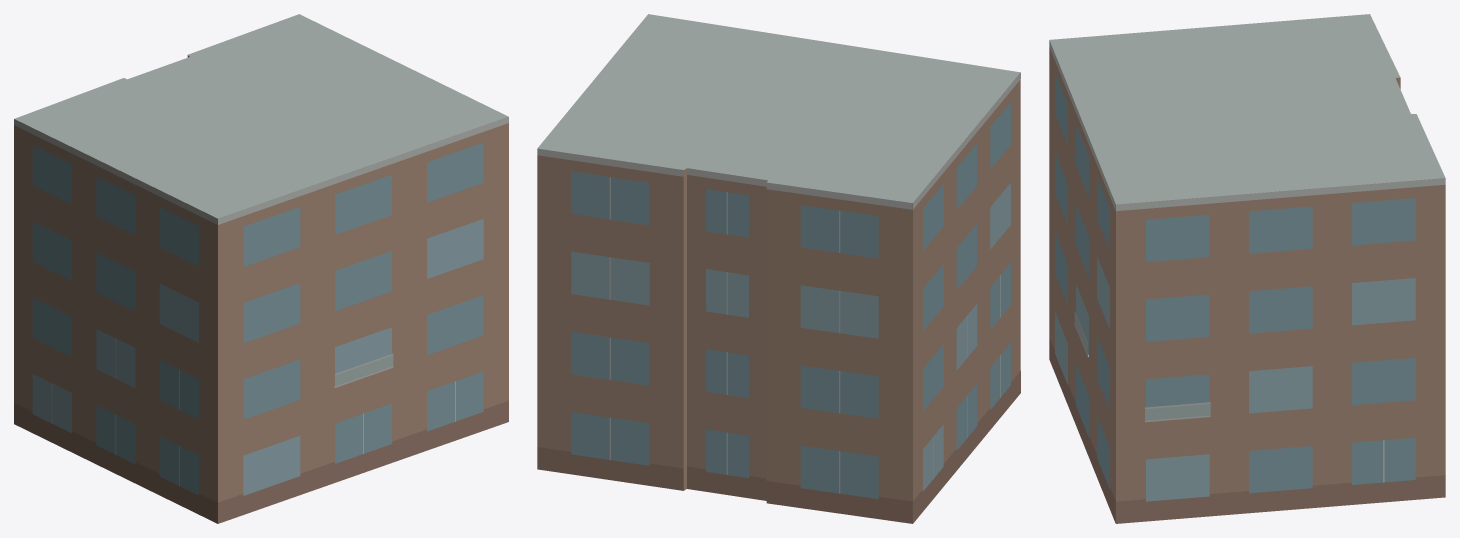
The model's file is survey-upis-32884549.glb.
3 renders of one model, left to right at view 1: azimuth 30°, elevation 25°; view 2: azimuth 150°, elevation 25°; view 3: azimuth 270°, elevation 25°, orthographic. The views are drawn at different scales.
Parts seen in each view (by area): view 1: survey-upis-32884549.tmp; view 2: survey-upis-32884549.tmp; view 3: survey-upis-32884549.tmp.
Part boxes in pixels (left/top/right/bottom): survey-upis-32884549.tmp: left=14, top=14, right=508, bottom=523; survey-upis-32884549.tmp: left=537, top=14, right=1020, bottom=523; survey-upis-32884549.tmp: left=1049, top=14, right=1445, bottom=523.
Bounding box in the file's own units: 15.05 × 11.75 × 13.23.
